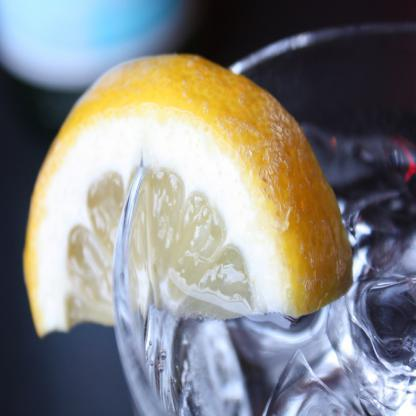lemon: (22, 52, 353, 338)
